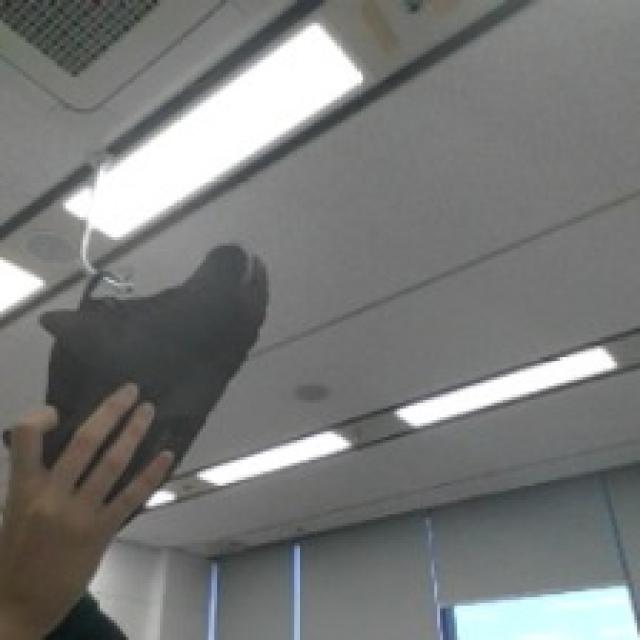shoes: (0, 240, 266, 526)
